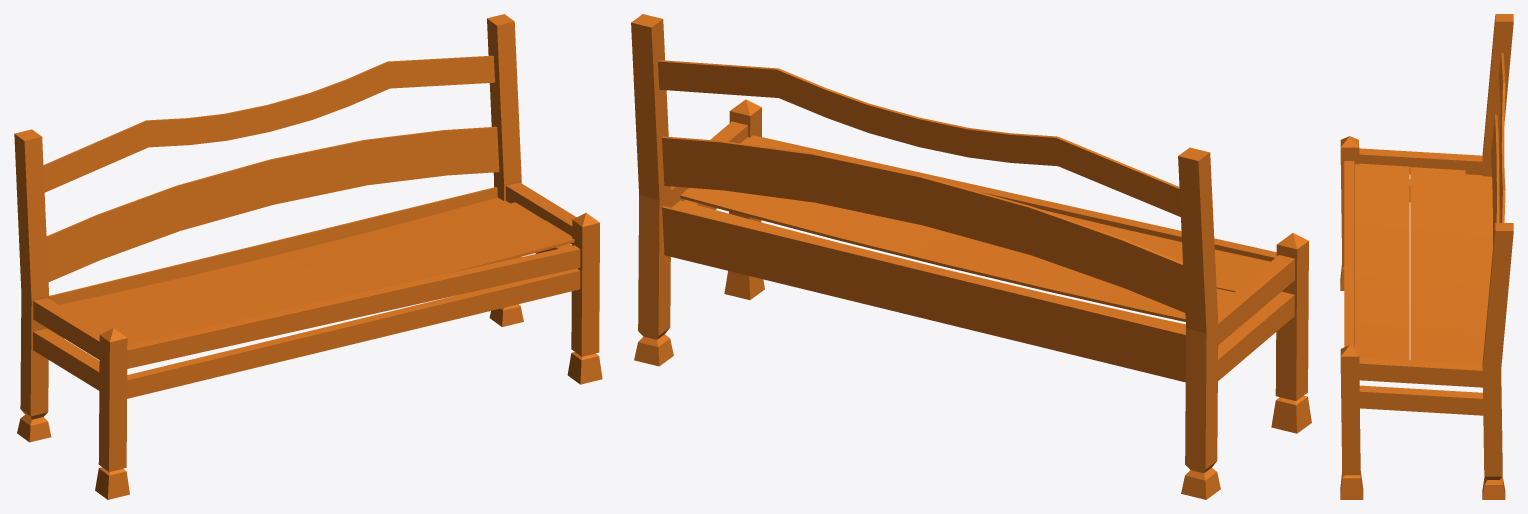
Rendered from BENCH.glb.
3 views of the same model, side by side, from view 1: azimuth 30°, elevation 25°; view 2: azimuth 150°, elevation 25°; view 3: azimuth 270°, elevation 25° (orthographic). The views are drawn at different scales.
Parts seen in each view (by area): view 1: Prop_Roughbench_A; view 2: Prop_Roughbench_A; view 3: Prop_Roughbench_A.
Boxes of the visible parts, left/top/right/bottom form: Prop_Roughbench_A: left=14, top=14, right=602, bottom=499; Prop_Roughbench_A: left=631, top=14, right=1311, bottom=499; Prop_Roughbench_A: left=1340, top=14, right=1513, bottom=499.
Bounding box in the file's own units: 2.06 × 1.17 × 0.6895.
